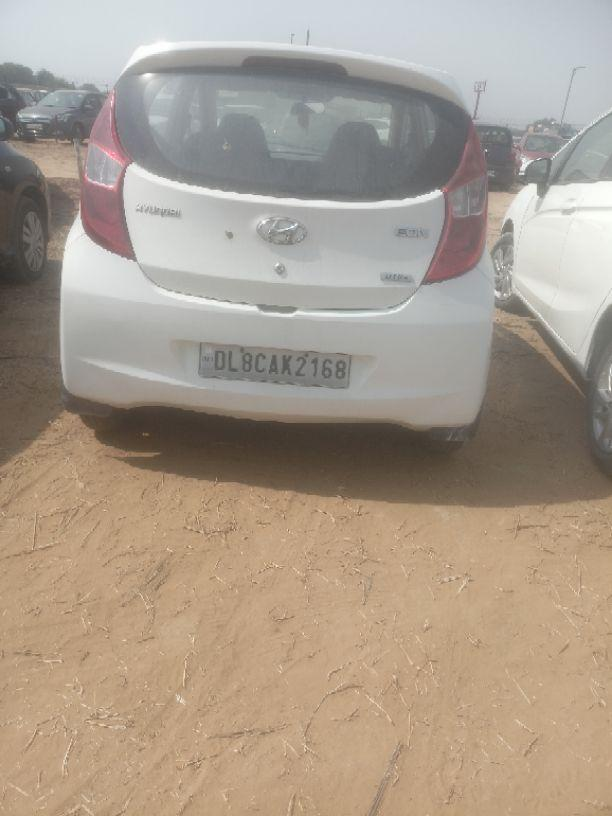license_plate: (196, 340, 351, 389)
